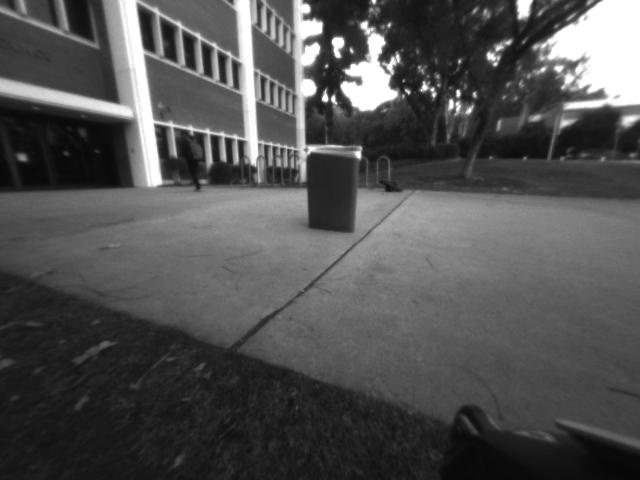trashcan_open: (298, 135, 368, 236)
